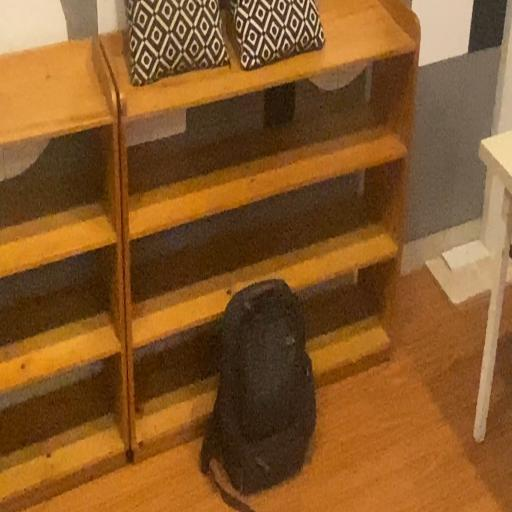bantal: (126, 0, 232, 93), (229, 0, 327, 78)
lemari: (0, 34, 130, 512)
tas ransel: (198, 272, 320, 510)
